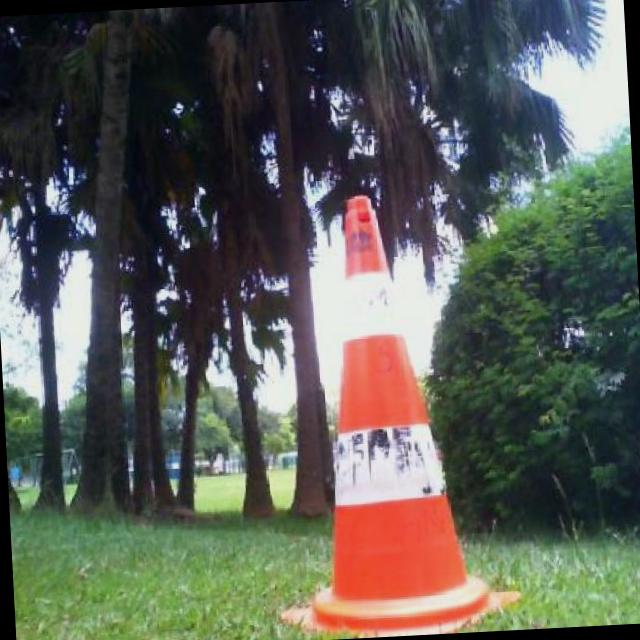Cone: (259, 186, 529, 640)
